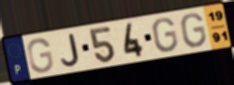4: (123, 21, 146, 59)
5: (87, 25, 117, 64)
G: (26, 37, 56, 74), (151, 17, 180, 54), (180, 12, 208, 49)
J: (60, 32, 81, 68)
